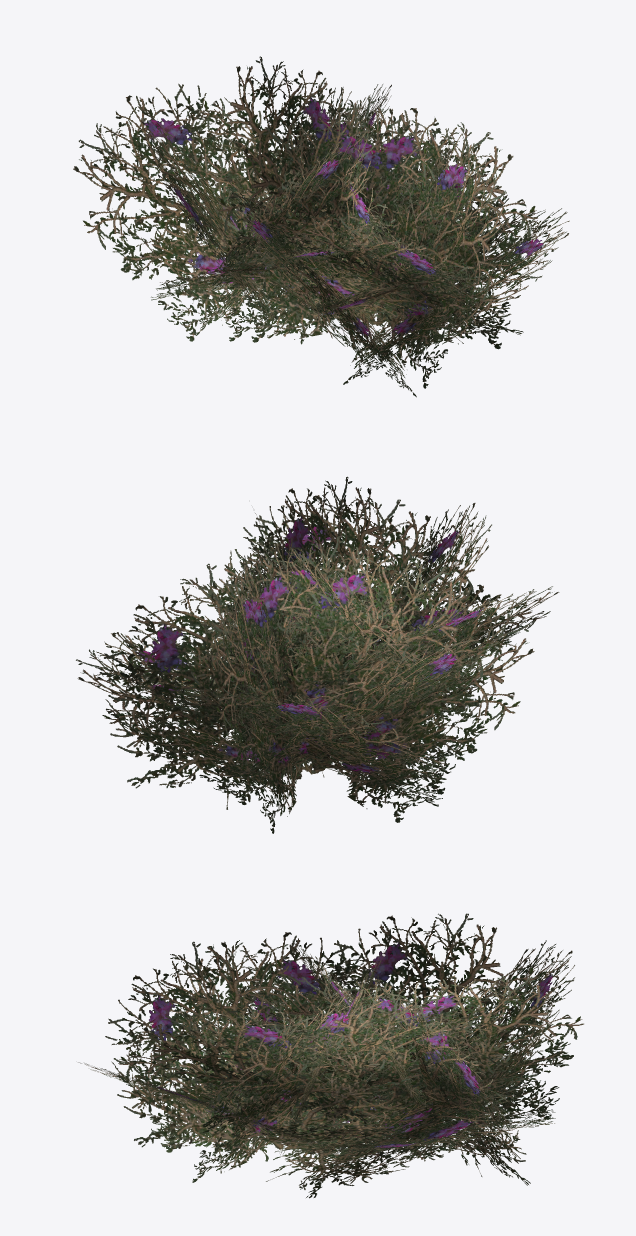
The model's file is shrb_flowerbush_lg_l0.fbx.
The picture shows the model from 3 angles, top to bottom: view 1: azimuth 30°, elevation 25°; view 2: azimuth 150°, elevation 25°; view 3: azimuth 270°, elevation 25°; orthographic projection. The views are drawn at different scales.
Parts seen in each view (by area): view 1: mesh_node; view 2: mesh_node; view 3: mesh_node.
Part boxes in pixels (x1,y1,x2,y2): mesh_node: (73, 56, 569, 397); mesh_node: (76, 476, 559, 833); mesh_node: (78, 913, 583, 1198).
Size of the model in its own units: 4.07 by 2.42 by 4.87.
1 material, 1 textured.
